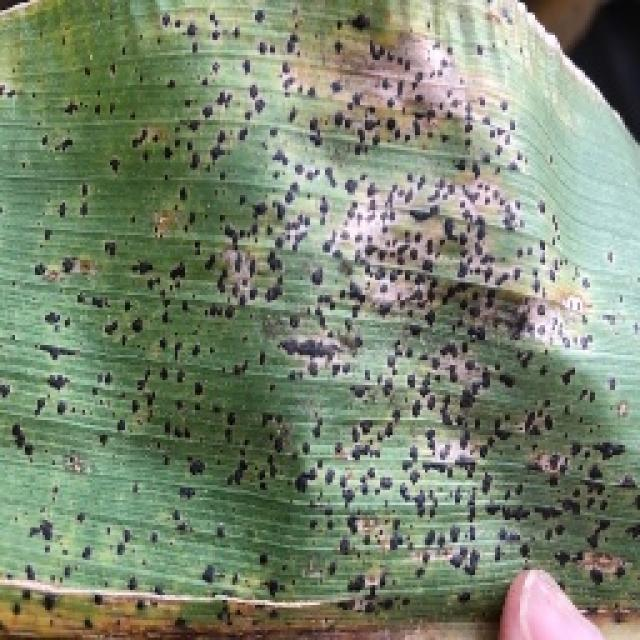Tar_Spot: (126, 61, 594, 575)
